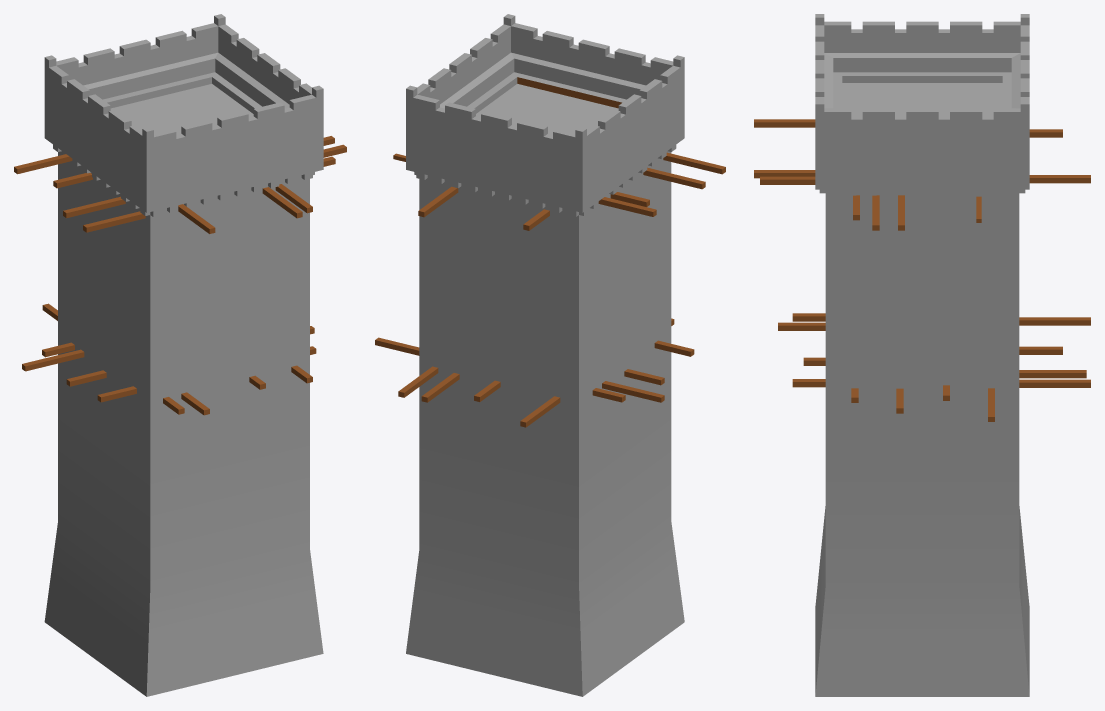
File: Building_Fortress_Castle_Tower_Large_02.fbx
3 views of the same model, side by side, from view 1: azimuth 30°, elevation 25°; view 2: azimuth 150°, elevation 25°; view 3: azimuth 270°, elevation 25° (orthographic). The views are drawn at different scales.
Parts seen in each view (by area): view 1: Building_Fortress_Castle_Tower_Large_02; view 2: Building_Fortress_Castle_Tower_Large_02; view 3: Building_Fortress_Castle_Tower_Large_02.
Boxes of the visible parts, bbox=[...] form: Building_Fortress_Castle_Tower_Large_02: bbox=[14, 14, 346, 696]; Building_Fortress_Castle_Tower_Large_02: bbox=[375, 14, 725, 696]; Building_Fortress_Castle_Tower_Large_02: bbox=[754, 14, 1090, 696].
Size of the model in its own units: 370 by 718 by 370.
